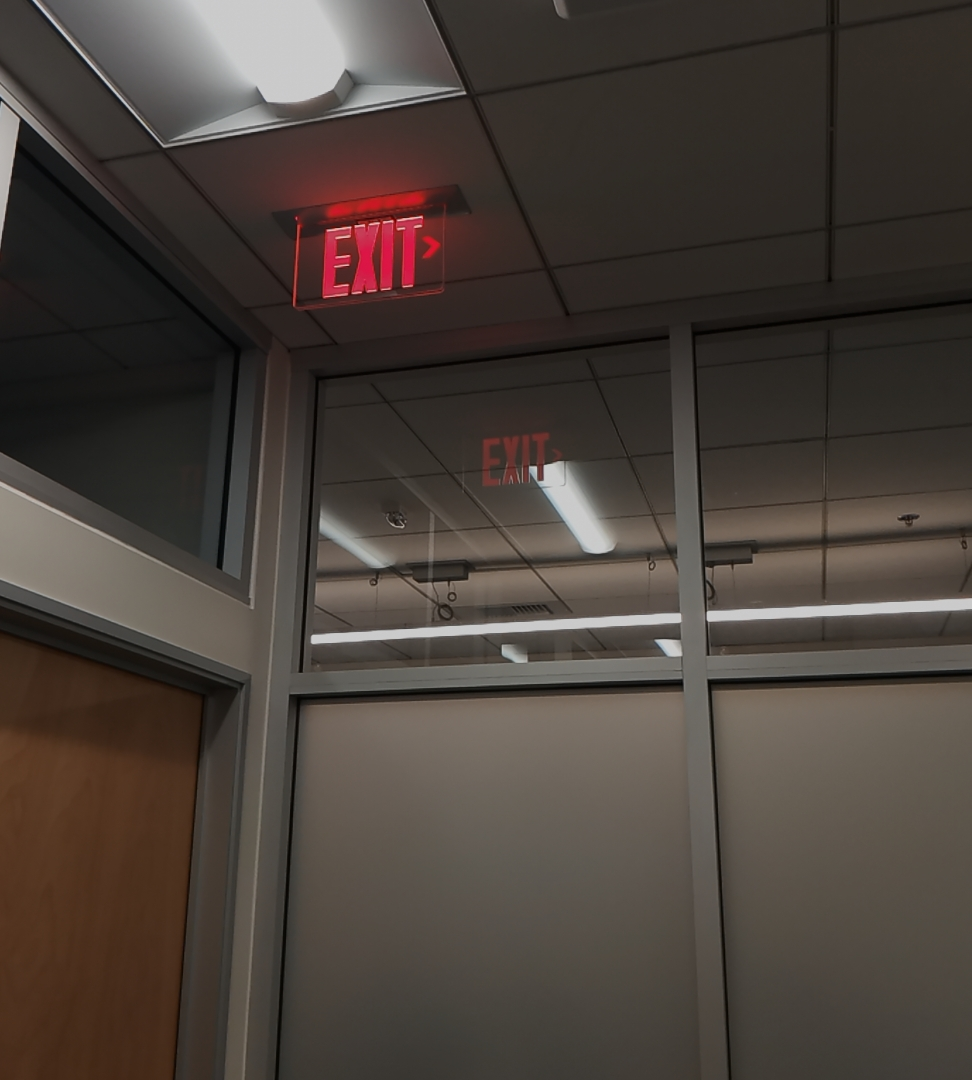emergency_exit: (289, 193, 450, 312)
